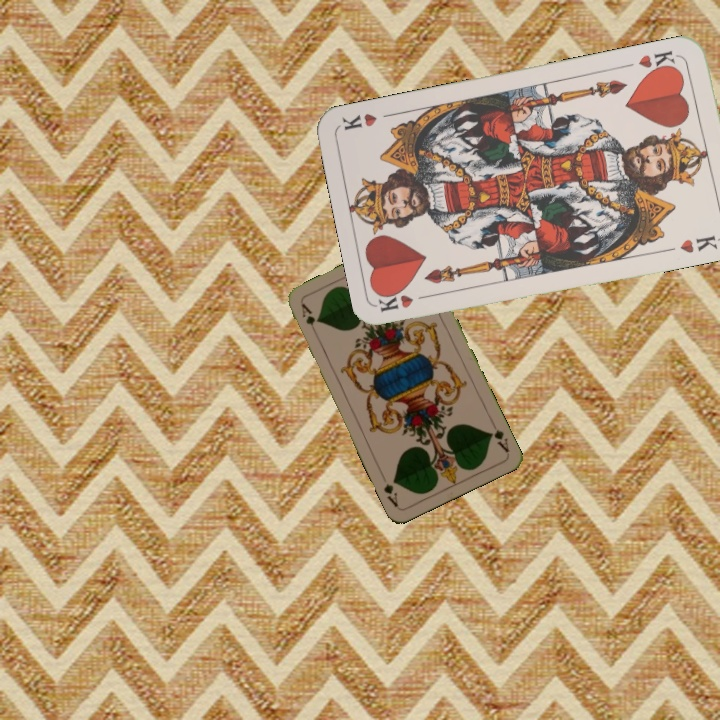GA: (485, 417, 512, 455), (297, 299, 318, 328)
HK: (376, 289, 435, 315), (634, 47, 683, 77)
